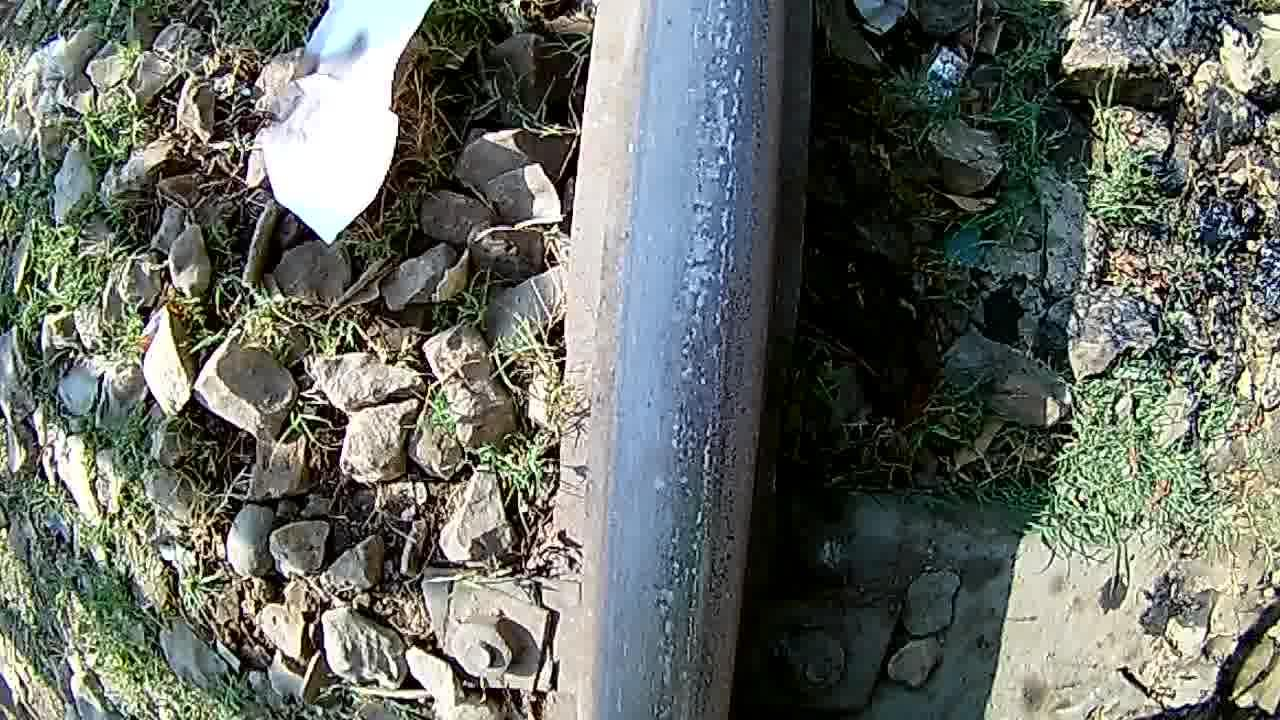clip_missing: (624, 2, 768, 720)
